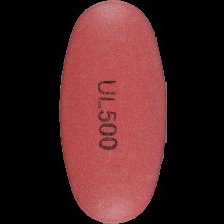61919-249: (0, 0, 224, 224)
